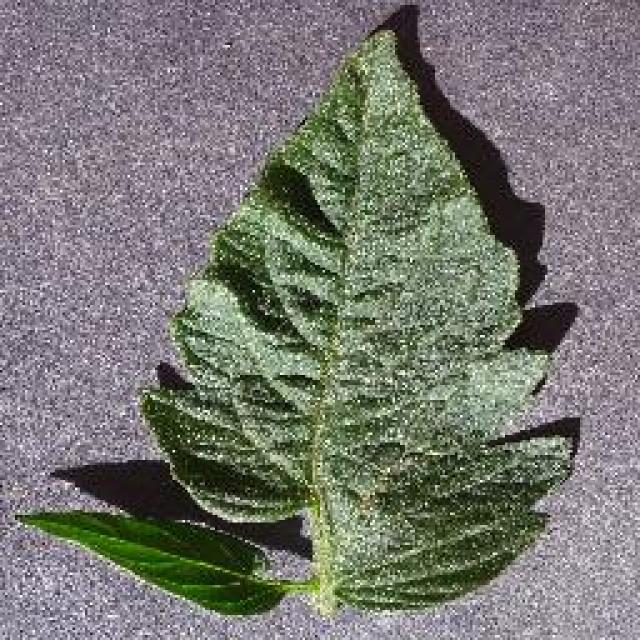Tomato___healthy: (11, 28, 574, 626)
